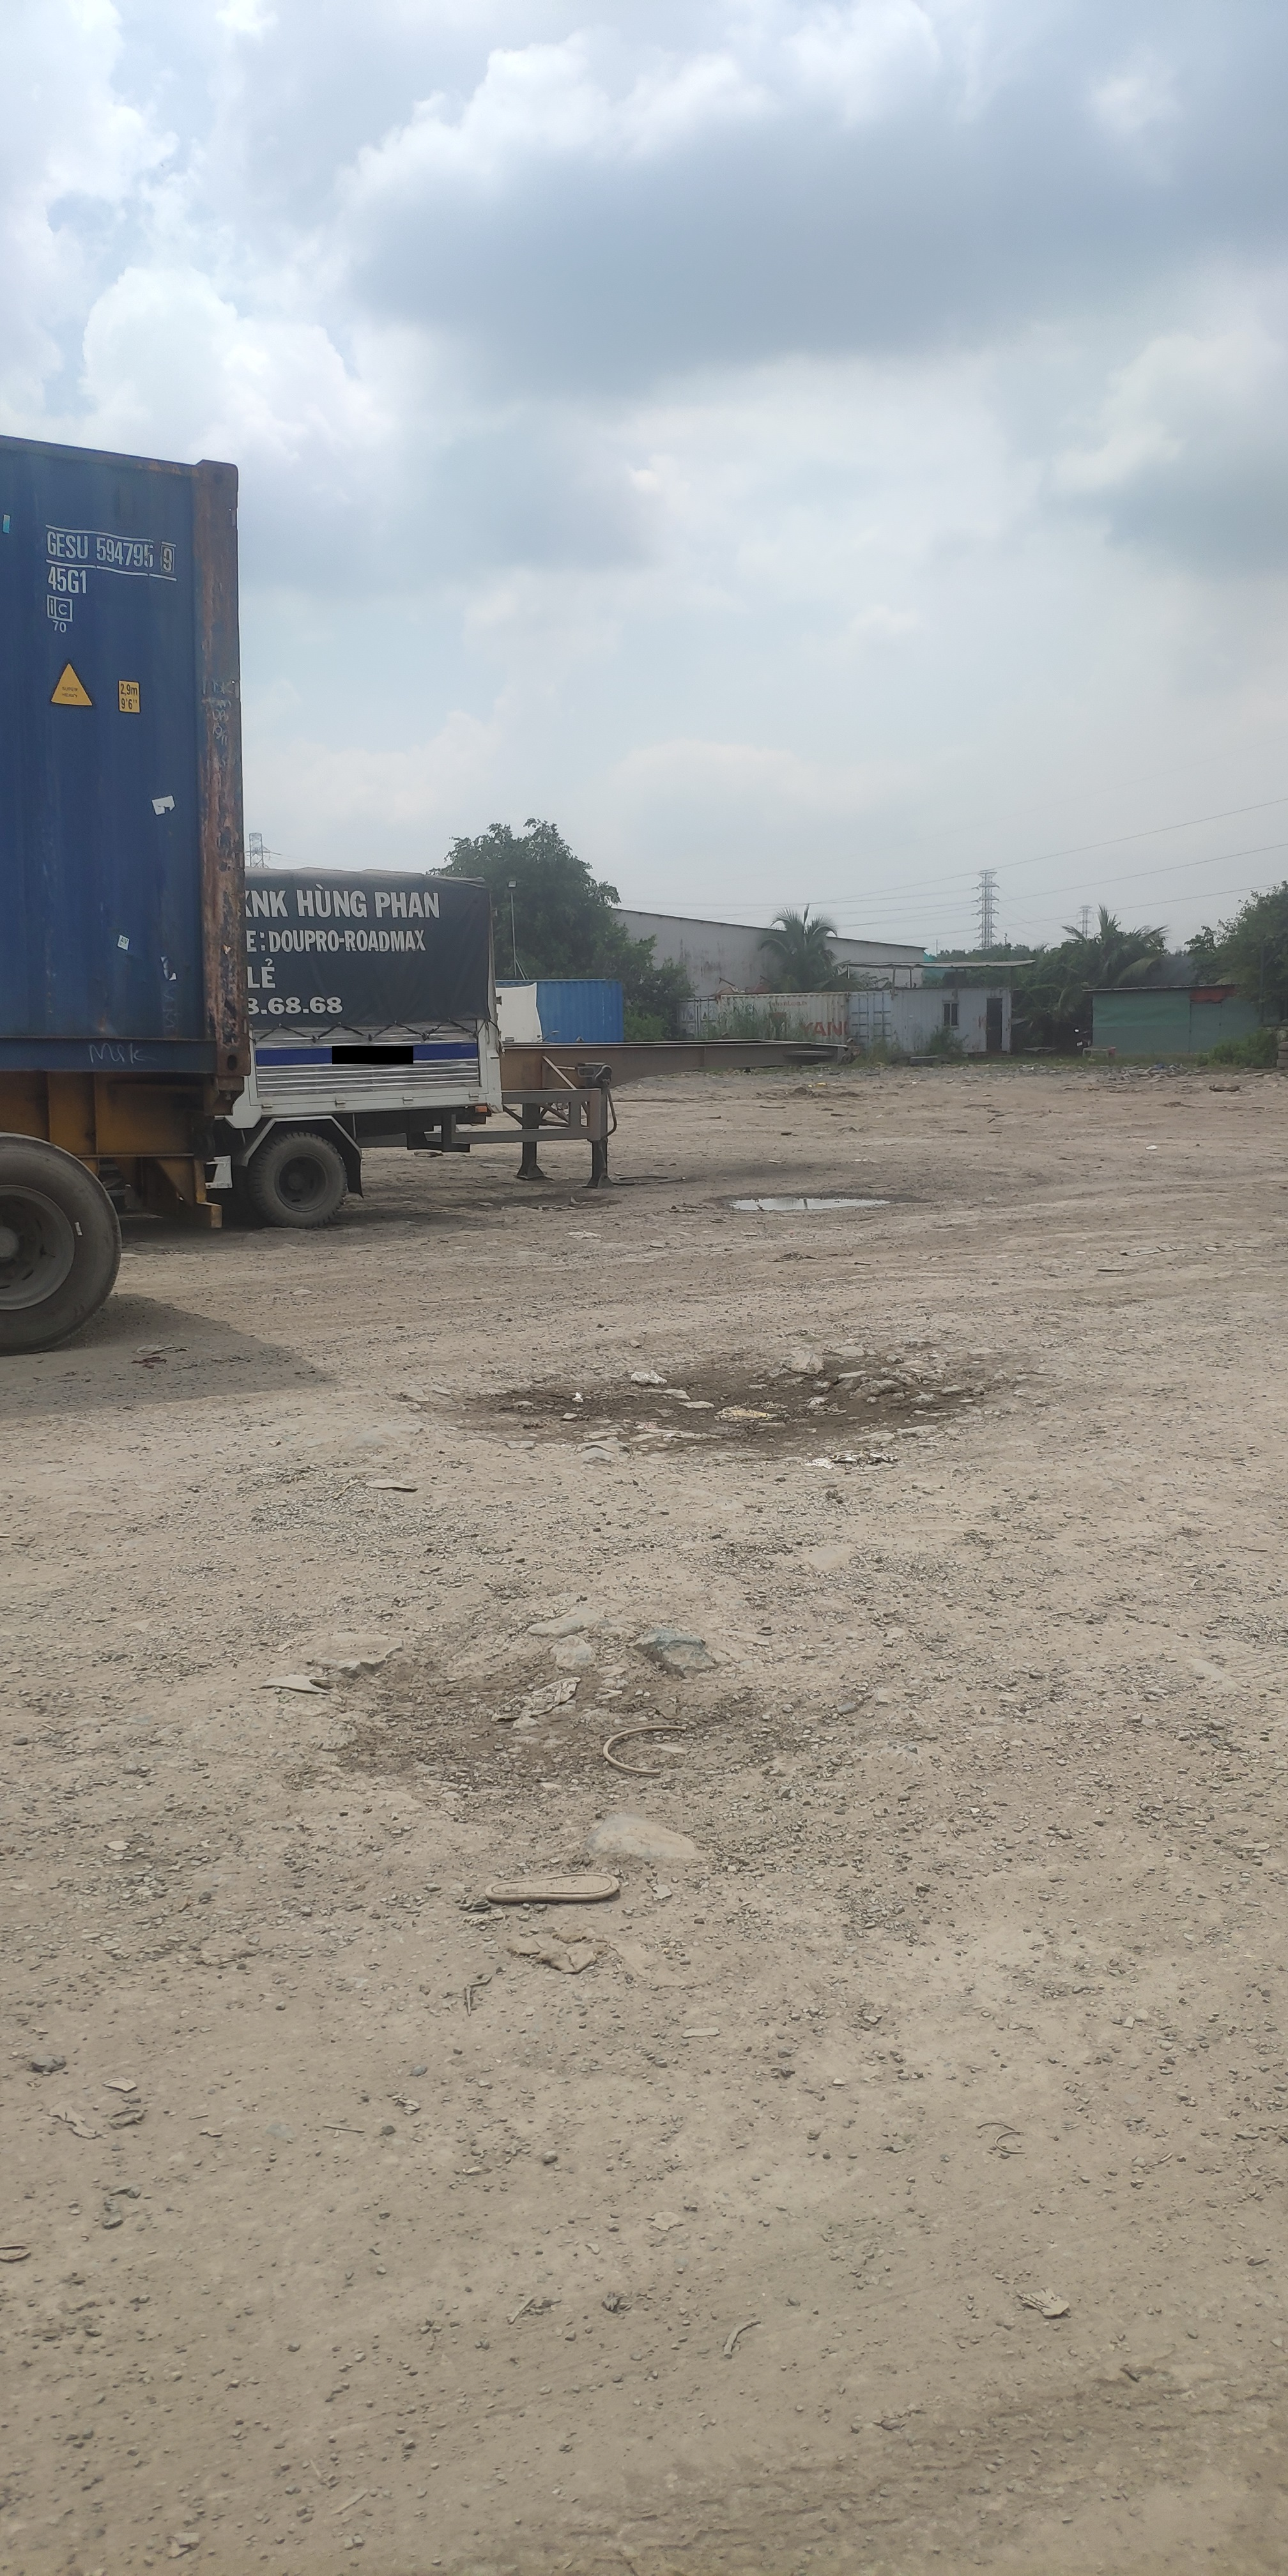hole: (317, 1598, 720, 1842), (457, 1355, 982, 1456), (724, 1193, 892, 1212)
